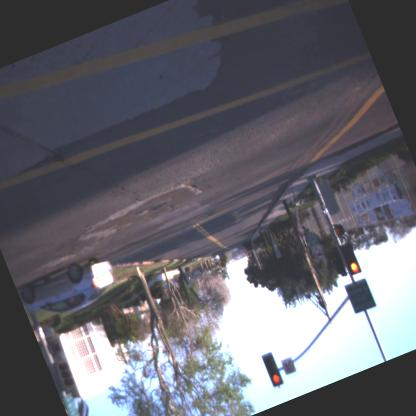trafficlight: (260, 350, 286, 388), (338, 241, 362, 277)
